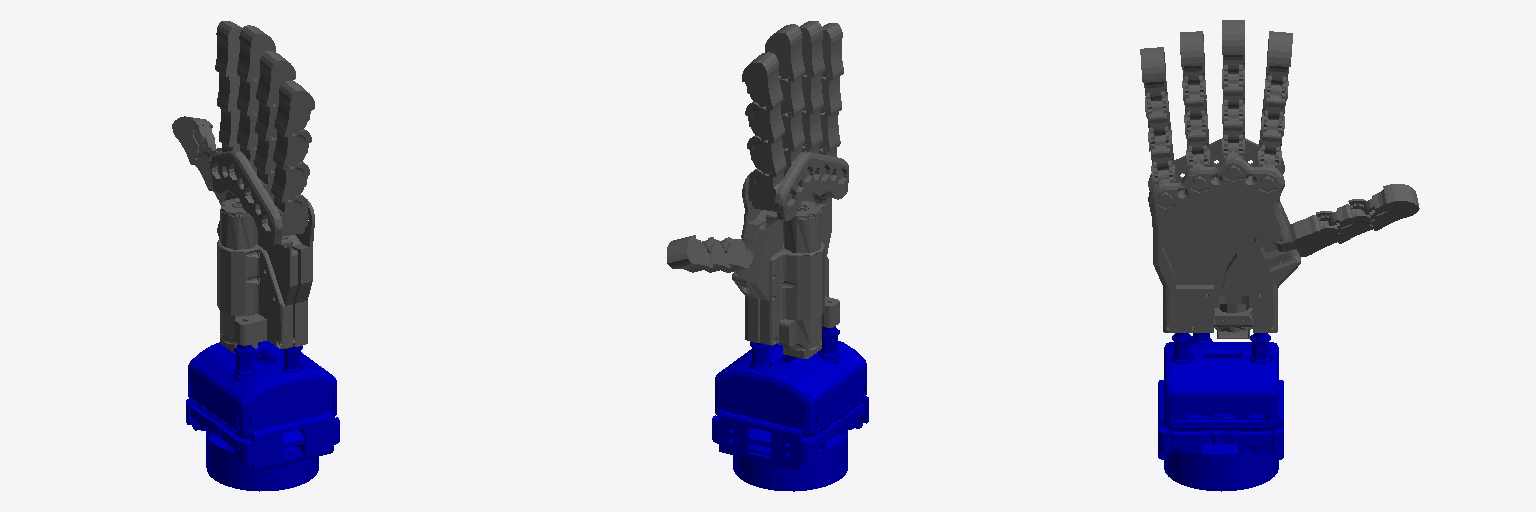
--- What the picture shows (computed from the rendered views, not written in the file) ---
The picture shows the robot from 3 angles, left to right: view 1: azimuth 30°, elevation 25°; view 2: azimuth 150°, elevation 25°; view 3: azimuth 270°, elevation 25°; orthographic projection.
Model soft_hand with 39 links and 38 joints (34 revolute, 4 fixed), rooted at right_hand_kuka_coupler_bottom, posed all joints at 0.
Visible links, largest first — view 1: right_hand_palm_link, right_hand_softhand_base, right_hand_clamp, right_hand_kuka_coupler_bottom, right_hand_little_distal_link, right_hand_ring_distal_link, right_hand_middle_distal_link, right_hand_thumb_distal_link, right_hand_index_distal_link, right_hand_little_proximal_link, right_hand_little_middle_link, right_hand_little_knuckle_link (+7 smaller); view 2: right_hand_palm_link, right_hand_softhand_base, right_hand_clamp, right_hand_kuka_coupler_bottom, right_hand_index_distal_link, right_hand_middle_distal_link, right_hand_thumb_distal_link, right_hand_index_middle_link, right_hand_index_proximal_link, right_hand_ring_distal_link, right_hand_index_knuckle_link, right_hand_little_distal_link (+8 smaller); view 3: right_hand_palm_link, right_hand_softhand_base, right_hand_kuka_coupler_bottom, right_hand_clamp, right_hand_thumb_knuckle_link, right_hand_thumb_distal_link, right_hand_index_distal_link, right_hand_little_distal_link, right_hand_thumb_proximal_link, right_hand_ring_distal_link, right_hand_middle_distal_link, right_hand_index_proximal_link (+11 smaller).
Boxes of the visible links, <box> form: right_hand_palm_link: <box>210,150,314,352</box>; right_hand_softhand_base: <box>188,340,336,438</box>; right_hand_clamp: <box>186,399,339,471</box>; right_hand_kuka_coupler_bottom: <box>206,431,318,491</box>; right_hand_little_distal_link: <box>274,80,314,136</box>; right_hand_ring_distal_link: <box>256,51,295,106</box>; right_hand_middle_distal_link: <box>237,25,275,81</box>; right_hand_thumb_distal_link: <box>172,116,215,165</box>; right_hand_index_distal_link: <box>215,21,241,76</box>; right_hand_little_proximal_link: <box>271,162,309,202</box>; right_hand_little_middle_link: <box>273,129,311,169</box>; right_hand_little_knuckle_link: <box>268,195,308,236</box>; right_hand_palm_link: <box>732,151,848,358</box>; right_hand_softhand_base: <box>715,326,866,437</box>; right_hand_clamp: <box>712,396,868,471</box>; right_hand_kuka_coupler_bottom: <box>733,429,847,491</box>; right_hand_index_distal_link: <box>742,52,783,109</box>; right_hand_middle_distal_link: <box>765,24,804,81</box>; right_hand_thumb_distal_link: <box>667,235,712,272</box>; right_hand_index_middle_link: <box>745,102,784,142</box>; right_hand_index_proximal_link: <box>747,136,786,176</box>; right_hand_ring_distal_link: <box>799,21,824,77</box>; right_hand_index_knuckle_link: <box>748,169,790,211</box>; right_hand_little_distal_link: <box>821,23,843,79</box>; right_hand_palm_link: <box>1148,138,1300,338</box>; right_hand_softhand_base: <box>1164,333,1278,430</box>; right_hand_kuka_coupler_bottom: <box>1164,414,1278,491</box>; right_hand_clamp: <box>1158,380,1283,459</box>; right_hand_thumb_knuckle_link: <box>1274,211,1342,256</box>; right_hand_thumb_distal_link: <box>1364,184,1419,230</box>; right_hand_index_distal_link: <box>1266,31,1292,85</box>; right_hand_little_distal_link: <box>1140,47,1166,100</box>; right_hand_thumb_proximal_link: <box>1328,199,1376,243</box>; right_hand_ring_distal_link: <box>1180,31,1204,84</box>; right_hand_middle_distal_link: <box>1222,20,1244,73</box>; right_hand_index_proximal_link: <box>1259,110,1284,154</box>.
Size in the robot's own frame: 0.066 by 0.1602 by 0.2805 metres.
22 mesh visuals loaded from 7 distinct referenced files (7 binary STL).

URDF robot description (soft_hand):
<?xml version="1.0" ?>
<!-- =================================================================================== -->
<!-- |    This document was autogenerated by xacro from [local-path]/catkin_softhand/src/pisa-iit-soft-hand/soft_hand_description/model/soft_hand_example.urdf.xacro | -->
<!-- |    EDITING THIS FILE BY HAND IS NOT RECOMMENDED                                 | -->
<!-- =================================================================================== -->
<robot name="soft_hand" xmlns:xacro="http://www.ros.org/wiki/xacro">
  <material name="SoftHand/LightGrey">
    <color rgba="0.7 0.7 0.7 1.0"/>
  </material>
  <material name="SoftHand/DarkGrey">
    <color rgba="0.4 0.4 0.4 1.0"/>
  </material>
  <material name="SoftHand/Black">
    <color rgba="0.0 0.0 0.0 1.0"/>
  </material>
  <material name="SoftHand/DarkGolden">
    <color rgba="0.4 0.4 0.3 1.0"/>
  </material>
  <material name="SoftHand/Blue">
    <color rgba="0.0 0.0 0.8 0.9"/>
  </material>
  <material name="SoftHand/LightBlue">
    <color rgba="0.0 0.4 1.0 0.5"/>
  </material>
  <!-- <xacro:insert_block name="gazebo_friction_properties"/> -->
  <!-- <xacro:insert_block name="gazebo_other_properties"/> -->
  <!-- NOTE: inertia values are approximated using meshlab and only using the significant elements -->
  <!-- from http://answers.ros.org/question/11350/is-there-any-way-to-calculate-inertial-property-of-a-robot-to-simulate-it-in-gazebo/s
    One general rule of thumb I use for checking my inertia tensors is: If total mass of the rigid body is m, and the dimension of the corresponding body is d, then check to see if ixx, iyy, izz are near m*(d/2)^2.

    This is by no means correct, but a sanity check to make sure the moment of inertia are the right order of magnitudes, so the model behaves somewhat physically realistically.
    -->
  <!-- PACMAN VERION ALREADY INCLUDES THE COUPLER, CLAMP AND BASE -->
  <!--joint name="box_right_hand_kuka_coupler_joint" type="fixed">
    <origin rpy="0 0 0" xyz="0.0 0.0 0.0"/>
    <parent link="box"/>
    <child link="right_hand_kuka_coupler_bottom"/>
  </joint-->
  <link name="right_hand_kuka_coupler_bottom">
    <inertial>
      <origin rpy="0 0 0" xyz="0 0 0"/>
      <mass value="1.e-6"/>
      <inertia ixx="1.e-12" ixy="0.0" ixz="0.0" iyy="1.e-12" iyz="0.0" izz="1.e-12"/>
    </inertial> <!-- in pybullet, the inertia need to be specified even for dummy links, otherwise it will put an identity inertia and a mass of 1 by default -->
    <visual>
      <origin rpy="0 0 0" xyz="0 0 0.0115"/>
      <geometry>
        <!-- mesh filename="meshes/accesories/kuka_coupler.stl"/-->
        <cylinder length="0.023" radius="0.033"/>
      </geometry>
      <material name="SoftHand/Blue"/>
    </visual>
    <collision>
      <origin rpy="0 0 0" xyz="0 0 0.031"/>
      <geometry>
        <cylinder length="0.023" radius="0.033"/>
      </geometry>
    </collision>
  </link>
  <joint name="box_right_hand_kuka_coupler_base_joint" type="fixed">
    <origin rpy="0 0 0" xyz="0 0 0.023"/>
    <parent link="right_hand_kuka_coupler_bottom"/>
    <child link="right_hand_kuka_coupler"/>
  </joint>
  <link name="right_hand_kuka_coupler">
    <inertial>
      <origin rpy="0 0 0" xyz="0 0 0"/>
      <mass value="0"/>
      <inertia ixx="0.0" ixy="0.0" ixz="0.0" iyy="0.0" iyz="0.0" izz="0.0"/>
    </inertial> <!-- in pybullet, the inertia need to be specified even for dummy links, otherwise it will put an identity inertia and a mass of 1 by default -->
  </link>
  <joint name="right_hand_kuka_coupler_right_hand_clamp_joint" type="fixed">
    <origin rpy="0 0 0" xyz="0 0 0.01"/>
    <parent link="right_hand_kuka_coupler"/>
    <child link="right_hand_clamp"/>
  </joint>
  <link name="right_hand_clamp">
    <inertial>
      <origin rpy="0 0 0" xyz="0 0 0"/>
      <mass value="0"/>
      <inertia ixx="0.0" ixy="0.0" ixz="0.0" iyy="0.0" iyz="0.0" izz="0.0"/>
    </inertial> <!-- in pybullet, the inertia need to be specified even for dummy links, otherwise it will put an identity inertia and a mass of 1 by default -->
    <visual>
      <origin rpy="0 0 0" xyz="0 0 0"/>
      <geometry>
        <mesh filename="meshes/accesories/clamp.stl"/>
      </geometry>
      <material name="SoftHand/Blue"/>
    </visual>
    <collision>
      <origin rpy="0 0 0" xyz="0 0 0"/>
      <geometry>
        <box size="0.066 0.0725 0.0256"/>
      </geometry>
    </collision>
  </link>
  <joint name="right_hand_clamp_right_hand_softhand_base_joint" type="fixed">
    <origin rpy="0 0 0" xyz="0 0 0.004"/>
    <parent link="right_hand_clamp"/>
    <child link="right_hand_softhand_base"/>
  </joint>
  <link name="right_hand_softhand_base">
    <inertial>
      <origin rpy="0 0 0" xyz="0 0 0"/>
      <mass value="0"/>
      <inertia ixx="0.0" ixy="0.0" ixz="0.0" iyy="0.0" iyz="0.0" izz="0.0"/>
    </inertial> <!-- in pybullet, the inertia need to be specified even for dummy links, otherwise it will put an identity inertia and a mass of 1 by default -->
    <visual>
      <origin rpy="0 0 0" xyz="0 0 0"/>
      <geometry>
        <mesh filename="meshes/accesories/softhand_base_right.stl"/>
      </geometry>
      <material name="SoftHand/Blue"/>
    </visual>
    <collision>
      <origin rpy="0 0 0" xyz="0 0 0.031"/>
      <geometry>
        <box size="0.066 0.066 0.062"/>
      </geometry>
    </collision>
  </link>
  <!-- PALM -->
  <joint name="right_hand_palm_joint" type="fixed">
    <origin rpy="0 0 0" xyz="0.002 0.00695 0.0535"/>
    <parent link="right_hand_softhand_base"/>
    <child link="right_hand_palm_link"/>
  </joint>
  <link name="right_hand_palm_link">
    <inertial>
      <origin xyz="-0.004568758 -0.006808116 0.027653328"/>
      <mass value="2.28"/>
      <inertia ixx="1.6302" ixy="0.0228" ixz="0.0228" iyy="0.9462" iyz="0.0456" izz="1.1058"/>
    </inertial>
    <visual>
      <geometry>
        <mesh filename="meshes/palm_right.stl" scale=" .001 .001 .001"/>
      </geometry>
      <material name="SoftHand/DarkGrey"/>
    </visual>
    <collision>
      <geometry>
        <mesh filename="meshes/palm_right_collision.stl" scale=" .001 .001 .001"/>
      </geometry>
    </collision>
  </link>
  <!-- MOTOR JOINT -->
  <joint name="right_hand_synergy_joint" type="revolute">
    <parent link="right_hand_palm_link"/>
    <child link="right_hand_invisible_wire_link"/>
    <axis xyz="0 0 1"/>
    <limit effort="100" lower="0.0" upper="1.0" velocity="100000"/>
    <dynamics damping="0.0" friction="0.0"/>
  </joint>
  <link name="right_hand_invisible_wire_link">
    <inertial>
      <origin xyz="0 0 0"/>
      <mass value="0.1"/>
      <inertia ixx="0.001" ixy="0.0" ixz="0.0" iyy="0.001" iyz="0.0" izz="0.001"/>
    </inertial>
  </link>
  <!-- KNUCKLE -->
  <joint name="right_hand_thumb_abd_joint" type="revolute">
    <origin rpy="0.0 -0.38397275793662144 1.5707963267948966" xyz="0.00566972 0.0296160 0.0553140"/>
    <parent link="right_hand_palm_link"/>
    <child link="right_hand_thumb_knuckle_link"/>
    <axis xyz="0 0 -1"/>
    <limit effort="100" lower="0.0" upper="1.57079632679" velocity="100"/>
    <dynamics damping="0.0" friction="0.0"/>
  </joint>
  <link name="right_hand_thumb_knuckle_link">
    <inertial>
      <origin xyz="0.013608098 -0.000532174 -0.000216691"/>
      <mass value="0.09"/>
      <inertia ixx="0.00315" ixy="0.00027" ixz="-0.00054" iyy="0.009" iyz="0.00018" izz="0.009"/>
    </inertial>
    <visual>
      <geometry>
        <mesh filename="meshes/thumb_knuckle_right.stl" scale=" .001 .001 .001"/>
      </geometry>
      <material name="SoftHand/DarkGrey"/>
    </visual>
    <collision>
      <geometry>
        <mesh filename="meshes/thumb_knuckle_right_collision.stl" scale=" .001 .001 .001"/>
      </geometry>
    </collision>
  </link>
  <!-- PROXIMAL PHALANGE -->
  <joint name="right_hand_thumb_inner_joint" type="revolute">
    <!-- <origin xyz="0.022500000 -0.003300000 0.0" rpy="0.42662757656587236 0.0 0.18131960430075023" /> -->
    <origin rpy="0.42662757656587236 0.0 0.0" xyz="0.022500000 -0.003300000 0.0"/>
    <parent link="right_hand_thumb_knuckle_link"/>
    <child link="right_hand_thumb_fake_link1"/>
    <axis xyz="0 -1 0"/>
    <limit effort="100" lower="0.0" upper="0.785398163397" velocity="100"/>
    <dynamics damping="0.0" friction="0.0"/>
  </joint>
  <link name="right_hand_thumb_fake_link1">
    <inertial>
      <origin xyz="0 0 0"/>
      <mass value="0.1"/>
      <inertia ixx="0.001" ixy="0.0" ixz="0.0" iyy="0.001" iyz="0.0" izz="0.001"/>
    </inertial>
  </link>
  <joint name="right_hand_thumb_inner_joint_mimic" type="revolute">
    <origin rpy="0 0 0" xyz="0.013 0 0"/>
    <parent link="right_hand_thumb_fake_link1"/>
    <child link="right_hand_thumb_proximal_link"/>
    <axis xyz="0 -1 0"/>
    <limit effort="100" lower="0.0" upper="0.785398163397" velocity="100"/>
    <dynamics damping="0.0" friction="0.0"/>
  </joint>
  <link name="right_hand_thumb_proximal_link">
    <inertial>
      <origin xyz="0.005074337 -4.524e-06 -0.000262953"/>
      <mass value="0.05"/>
      <inertia ixx="0.00175" ixy="0.0" ixz="0.0001" iyy="0.00275" iyz="0.0" izz="0.00275"/>
    </inertial>
    <visual>
      <geometry>
        <mesh filename="meshes/phalanx.stl" scale=" .001 .001 .001"/>
      </geometry>
      <material name="SoftHand/DarkGrey"/>
    </visual>
    <collision>
      <geometry>
        <mesh filename="meshes/phalanx_collision.stl" scale=" .001 .001 .001"/>
      </geometry>
    </collision>
  </link>
  <!-- DISTAL PHALANGE -->
  <joint name="right_hand_thumb_outer_joint" type="revolute">
    <origin rpy="0 0 0" xyz="0.009 0 0.0"/>
    <parent link="right_hand_thumb_proximal_link"/>
    <child link="right_hand_thumb_fake_link3"/>
    <axis xyz="0 -1 0"/>
    <limit effort="100" lower="0.0" upper="0.785398163397" velocity="100"/>
    <dynamics damping="0.0" friction="0.0"/>
  </joint>
  <link name="right_hand_thumb_fake_link3">
    <inertial>
      <origin xyz="0 0 0"/>
      <mass value="0.1"/>
      <inertia ixx="0.001" ixy="0.0" ixz="0.0" iyy="0.001" iyz="0.0" izz="0.001"/>
    </inertial>
  </link>
  <joint name="right_hand_thumb_outer_joint_mimic" type="revolute">
    <origin rpy="0 0 0" xyz="0.013 0 0"/>
    <parent link="right_hand_thumb_fake_link3"/>
    <child link="right_hand_thumb_distal_link"/>
    <axis xyz="0 -1 0"/>
    <limit effort="100" lower="0.0" upper="0.785398163397" velocity="100"/>
    <dynamics damping="0.0" friction="0.0"/>
  </joint>
  <link name="right_hand_thumb_distal_link">
    <inertial>
      <origin xyz="0.009849094 5.6e-07 0.000820286"/>
      <mass value="0.1"/>
      <inertia ixx="0.0035" ixy="0.0" ixz="0.0002" iyy="0.008" iyz="0.0" izz="0.0076"/>
    </inertial>
    <visual>
      <geometry>
        <mesh filename="meshes/fingertip.stl" scale=" .001 .001 .001"/>
      </geometry>
      <material name="SoftHand/DarkGrey"/>
    </visual>
    <collision>
      <geometry>
        <mesh filename="meshes/fingertip_collision.stl" scale=" .001 .001 .001"/>
      </geometry>
    </collision>
  </link>
  <!-- KNUCKLE -->
  <joint name="right_hand_index_abd_joint" type="revolute">
    <origin rpy="1.5707963267948966 -1.4835299330931884 1.5707963267948966" xyz="-0.0033 0.0195 0.0936994"/>
    <parent link="right_hand_palm_link"/>
    <child link="right_hand_index_knuckle_link"/>
    <axis xyz="0 0 1"/>
    <limit effort="100" lower="-0.523598775598" upper="0.523598775598" velocity="100"/>
    <dynamics damping="0.0" friction="0.0"/>
  </joint>
  <link name="right_hand_index_knuckle_link">
    <inertial>
      <origin xyz="0.001285644 -9.58e-07 0.000425011"/>
      <mass value="0.09"/>
      <inertia ixx="0.00405" ixy="0.0" ixz="0.00045" iyy="0.0081" iyz="0.0" izz="0.0063"/>
    </inertial>
    <visual>
      <geometry>
        <mesh filename="meshes/knuckle.stl" scale=" .001 .001 .001"/>
      </geometry>
      <material name="SoftHand/DarkGrey"/>
    </visual>
    <collision>
      <geometry>
        <mesh filename="meshes/knuckle_collision.stl" scale=" .001 .001 .001"/>
      </geometry>
    </collision>
  </link>
  <!-- PROXIMAL PHALANGE -->
  <joint name="right_hand_index_inner_joint" type="revolute">
    <origin rpy="0 0 0" xyz="0.009 0 0"/>
    <parent link="right_hand_index_knuckle_link"/>
    <child link="right_hand_index_fake_link1"/>
    <axis xyz="0 -1 0"/>
    <limit effort="100" lower="0.0" upper="0.785398163397" velocity="100"/>
    <dynamics damping="0.0" friction="0.0"/>
  </joint>
  <link name="right_hand_index_fake_link1">
    <inertial>
      <origin xyz="0 0 0"/>
      <mass value="0.1"/>
      <inertia ixx="0.001" ixy="0.0" ixz="0.0" iyy="0.001" iyz="0.0" izz="0.001"/>
    </inertial>
  </link>
  <joint name="right_hand_index_inner_joint_mimic" type="revolute">
    <origin rpy="0 0 0" xyz="0.013 0 0"/>
    <parent link="right_hand_index_fake_link1"/>
    <child link="right_hand_index_proximal_link"/>
    <axis xyz="0 -1 0"/>
    <limit effort="100" lower="0.0" upper="0.785398163397" velocity="100"/>
    <dynamics damping="0.0" friction="0.0"/>
  </joint>
  <link name="right_hand_index_proximal_link">
    <inertial>
      <origin xyz="0.005074337 -4.524e-06 -0.000262953"/>
      <mass value="0.05"/>
      <inertia ixx="0.00175" ixy="0.0" ixz="0.0001" iyy="0.00275" iyz="0.0" izz="0.00275"/>
    </inertial>
    <visual>
      <geometry>
        <mesh filename="meshes/phalanx.stl" scale=" .001 .001 .001"/>
      </geometry>
      <material name="SoftHand/DarkGrey"/>
    </visual>
    <collision>
      <geometry>
        <mesh filename="meshes/phalanx_collision.stl" scale=" .001 .001 .001"/>
      </geometry>
    </collision>
  </link>
  <!-- MIDDLE PHALANGE -->
  <joint name="right_hand_index_middle_joint" type="revolute">
    <origin rpy="0 0 0" xyz="0.009 0 0"/>
    <parent link="right_hand_index_proximal_link"/>
    <child link="right_hand_index_fake_link2"/>
    <axis xyz="0 -1 0"/>
    <limit effort="100" lower="0.0" upper="0.785398163397" velocity="100"/>
    <dynamics damping="0.0" friction="0.0"/>
  </joint>
  <link name="right_hand_index_fake_link2">
    <inertial>
      <origin xyz="0 0 0"/>
      <mass value="0.1"/>
      <inertia ixx="0.001" ixy="0.0" ixz="0.0" iyy="0.001" iyz="0.0" izz="0.001"/>
    </inertial>
  </link>
  <joint name="right_hand_index_middle_joint_mimic" type="revolute">
    <origin rpy="0 0 0" xyz="0.013 0 0"/>
    <parent link="right_hand_index_fake_link2"/>
    <child link="right_hand_index_middle_link"/>
    <axis xyz="0 -1 0"/>
    <limit effort="100" lower="0.0" upper="0.785398163397" velocity="100"/>
    <dynamics damping="0.0" friction="0.0"/>
  </joint>
  <link name="right_hand_index_middle_link">
    <inertial>
      <origin xyz="0.005074337 -4.524e-06 -0.000262953"/>
      <mass value="0.05"/>
      <inertia ixx="0.00175" ixy="0.0" ixz="0.0001" iyy="0.00275" iyz="0.0" izz="0.00275"/>
    </inertial>
    <visual>
      <geometry>
        <mesh filename="meshes/phalanx.stl" scale=" .001 .001 .001"/>
      </geometry>
      <material name="SoftHand/DarkGrey"/>
    </visual>
    <collision>
      <geometry>
        <mesh filename="meshes/phalanx_collision.stl" scale=" .001 .001 .001"/>
      </geometry>
    </collision>
  </link>
  <!-- DISTAL PHALANGE -->
  <joint name="right_hand_index_outer_joint" type="revolute">
    <origin rpy="0 0 0" xyz="0.009 0 0"/>
    <parent link="right_hand_index_middle_link"/>
    <child link="right_hand_index_fake_link3"/>
    <axis xyz="0 -1 0"/>
    <limit effort="100" lower="0.0" upper="0.785398163397" velocity="100"/>
    <dynamics damping="0.0" friction="0.0"/>
  </joint>
  <link name="right_hand_index_fake_link3">
    <inertial>
      <origin xyz="0 0 0"/>
      <mass value="0.1"/>
      <inertia ixx="0.001" ixy="0.0" ixz="0.0" iyy="0.001" iyz="0.0" izz="0.001"/>
    </inertial>
  </link>
  <joint name="right_hand_index_outer_joint_mimic" type="revolute">
    <origin rpy="0 0 0" xyz="0.013 0 0"/>
    <parent link="right_hand_index_fake_link3"/>
    <child link="right_hand_index_distal_link"/>
    <axis xyz="0 -1 0"/>
    <limit effort="100" lower="0.0" upper="0.785398163397" velocity="100"/>
    <dynamics damping="0.0" friction="0.0"/>
  </joint>
  <link name="right_hand_index_distal_link">
    <inertial>
      <origin xyz="0.009849094 5.6e-07 0.000820286"/>
      <mass value="0.1"/>
      <inertia ixx="0.0035" ixy="0.0" ixz="0.0002" iyy="0.008" iyz="0.0" izz="0.0076"/>
    </inertial>
    <visual>
      <geometry>
        <mesh filename="meshes/fingertip.stl" scale=" .001 .001 .001"/>
      </geometry>
      <material name="SoftHand/DarkGrey"/>
    </visual>
    <collision>
      <geometry>
        <mesh filename="meshes/fingertip_collision.stl" scale=" .001 .001 .001"/>
      </geometry>
    </collision>
  </link>
  <!-- KNUCKLE -->
  <joint name="right_hand_middle_abd_joint" type="revolute">
    <origin rpy="3.141592 -1.5707963267948966 0.0" xyz="-0.003300000 0.0 0.100699"/>
    <parent link="right_hand_palm_link"/>
    <child link="right_hand_middle_knuckle_link"/>
    <axis xyz="0 0 1"/>
    <limit effort="100" lower="-0.523598775598" upper="0.523598775598" velocity="100"/>
    <dynamics damping="0.0" friction="0.0"/>
  </joint>
  <link name="right_hand_middle_knuckle_link">
    <inertial>
      <origin xyz="0.001285644 -9.58e-07 0.000425011"/>
      <mass value="0.09"/>
      <inertia ixx="0.00405" ixy="0.0" ixz="0.00045" iyy="0.0081" iyz="0.0" izz="0.0063"/>
    </inertial>
    <visual>
      <geometry>
        <mesh filename="meshes/knuckle.stl" scale=" .001 .001 .001"/>
      </geometry>
      <material name="SoftHand/DarkGrey"/>
    </visual>
    <collision>
      <geometry>
        <mesh filename="meshes/knuckle_collision.stl" scale=" .001 .001 .001"/>
      </geometry>
    </collision>
  </link>
  <!-- PROXIMAL PHALANGE -->
  <joint name="right_hand_middle_inner_joint" type="revolute">
    <origin rpy="0 0 0" xyz="0.009 0 0"/>
    <parent link="right_hand_middle_knuckle_link"/>
    <child link="right_hand_middle_fake_link1"/>
    <axis xyz="0 -1 0"/>
    <limit effort="100" lower="0.0" upper="0.785398163397" velocity="100"/>
    <dynamics damping="0.0" friction="0.0"/>
  </joint>
  <link name="right_hand_middle_fake_link1">
    <inertial>
      <origin xyz="0 0 0"/>
      <mass value="0.1"/>
      <inertia ixx="0.001" ixy="0.0" ixz="0.0" iyy="0.001" iyz="0.0" izz="0.001"/>
    </inertial>
  </link>
  <joint name="right_hand_middle_inner_joint_mimic" type="revolute">
    <origin rpy="0 0 0" xyz="0.013 0 0"/>
    <parent link="right_hand_middle_fake_link1"/>
    <child link="right_hand_middle_proximal_link"/>
    <axis xyz="0 -1 0"/>
    <limit effort="100" lower="0.0" upper="0.785398163397" velocity="100"/>
    <dynamics damping="0.0" friction="0.0"/>
  </joint>
  <link name="right_hand_middle_proximal_link">
    <inertial>
      <origin xyz="0.005074337 -4.524e-06 -0.000262953"/>
      <mass value="0.05"/>
      <inertia ixx="0.00175" ixy="0.0" ixz="0.0001" iyy="0.00275" iyz="0.0" izz="0.00275"/>
    </inertial>
    <visual>
      <geometry>
        <mesh filename="meshes/phalanx.stl" scale=" .001 .001 .001"/>
      </geometry>
      <material name="SoftHand/DarkGrey"/>
    </visual>
    <collision>
      <geometry>
        <mesh filename="meshes/phalanx_collision.stl" scale=" .001 .001 .001"/>
      </geometry>
    </collision>
  </link>
  <!-- MIDDLE PHALANGE -->
  <joint name="right_hand_middle_middle_joint" type="revolute">
    <origin rpy="0 0 0" xyz="0.009 0 0"/>
    <parent link="right_hand_middle_proximal_link"/>
    <child link="right_hand_middle_fake_link2"/>
    <axis xyz="0 -1 0"/>
    <limit effort="100" lower="0.0" upper="0.785398163397" velocity="100"/>
    <dynamics damping="0.0" friction="0.0"/>
  </joint>
  <link name="right_hand_middle_fake_link2">
    <inertial>
      <origin xyz="0 0 0"/>
      <mass value="0.1"/>
      <inertia ixx="0.001" ixy="0.0" ixz="0.0" iyy="0.001" iyz="0.0" izz="0.001"/>
    </inertial>
  </link>
  <joint name="right_hand_middle_middle_joint_mimic" type="revolute">
    <origin rpy="0 0 0" xyz="0.013 0 0"/>
    <parent link="right_hand_middle_fake_link2"/>
    <child link="right_hand_middle_middle_link"/>
    <axis xyz="0 -1 0"/>
    <limit effort="100" lower="0.0" upper="0.785398163397" velocity="100"/>
    <dynamics damping="0.0" friction="0.0"/>
  </joint>
  <link name="right_hand_middle_middle_link">
    <inertial>
      <origin xyz="0.005074337 -4.524e-06 -0.000262953"/>
      <mass value="0.05"/>
      <inertia ixx="0.00175" ixy="0.0" ixz="0.0001" iyy="0.00275" iyz="0.0" izz="0.00275"/>
    </inertial>
    <visual>
      <geometry>
        <mesh filename="meshes/phalanx.stl" scale=" .001 .001 .001"/>
      </geometry>
      <material name="SoftHand/DarkGrey"/>
    </visual>
    <collision>
      <geometry>
        <mesh filename="meshes/phalanx_collision.stl" scale=" .001 .001 .001"/>
      </geometry>
    </collision>
  </link>
  <!-- DISTAL PHALANGE -->
  <joint name="right_hand_middle_outer_joint" type="revolute">
    <origin rpy="0 0 0" xyz="0.009 0 0"/>
    <parent link="right_hand_middle_middle_link"/>
    <child link="right_hand_middle_fake_link3"/>
    <axis xyz="0 -1 0"/>
    <limit effort="100" lower="0.0" upper="0.785398163397" velocity="100"/>
    <dynamics damping="0.0" friction="0.0"/>
  </joint>
  <link name="right_hand_middle_fake_link3">
    <inertial>
      <origin xyz="0 0 0"/>
      <mass value="0.1"/>
      <inertia ixx="0.001" ixy="0.0" ixz="0.0" iyy="0.001" iyz="0.0" izz="0.001"/>
    </inertial>
  </link>
  <joint name="right_hand_middle_outer_joint_mimic" type="revolute">
    <origin rpy="0 0 0" xyz="0.013 0 0"/>
    <parent link="right_hand_middle_fake_link3"/>
    <child link="right_hand_middle_distal_link"/>
    <axis xyz="0 -1 0"/>
    <limit effort="100" lower="0.0" upper="0.785398163397" velocity="100"/>
    <dynamics damping="0.0" friction="0.0"/>
  </joint>
  <link name="right_hand_middle_distal_link">
    <inertial>
      <origin xyz="0.009849094 5.6e-07 0.000820286"/>
      <mass value="0.1"/>
      <inertia ixx="0.0035" ixy="0.0" ixz="0.0002" iyy="0.008" iyz="0.0" izz="0.0076"/>
    </inertial>
    <visual>
      <geometry>
        <mesh filename="meshes/fingertip.stl" scale=" .001 .001 .001"/>
      </geometry>
      <material name="SoftHand/DarkGrey"/>
    </visual>
    <collision>
      <geometry>
        <mesh filename="meshes/fingertip_collision.stl" scale=" .001 .001 .001"/>
      </geometry>
    </collision>
  </link>
  <!-- KNUCKLE -->
  <joint name="right_hand_ring_abd_joint" type="revolute">
    <origin rpy="-1.5707963267948966 -1.5184364298870514 -1.5707963267948966 " xyz="-0.0033 -0.0195 0.0936994"/>
    <parent link="right_hand_palm_link"/>
    <child link="right_hand_ring_knuckle_link"/>
    <axis xyz="0 0 1"/>
    <limit effort="100" lower="-0.523598775598" upper="0.523598775598" velocity="100"/>
    <dynamics damping="0.0" friction="0.0"/>
  </joint>
  <link name="right_hand_ring_knuckle_link">
    <inertial>
      <origin xyz="0.001285644 -9.58e-07 0.000425011"/>
      <mass value="0.09"/>
      <inertia ixx="0.00405" ixy="0.0" ixz="0.00045" iyy="0.0081" iyz="0.0" izz="0.0063"/>
    </inertial>
    <visual>
      <geometry>
        <mesh filename="meshes/knuckle.stl" scale=" .001 .001 .001"/>
      </geometry>
      <material name="SoftHand/DarkGrey"/>
    </visual>
    <collision>
      <geometry>
        <mesh filename="meshes/knuckle_collision.stl" scale=" .001 .001 .001"/>
      </geometry>
    </collision>
  </link>
  <!-- PROXIMAL PHALANGE -->
  <joint name="right_hand_ring_inner_joint" type="revolute">
    <origin rpy="0 0 0" xyz="0.009 0 0"/>
    <parent link="right_hand_ring_knuckle_link"/>
    <child link="right_hand_ring_fake_link1"/>
    <axis xyz="0 -1 0"/>
    <limit effort="100" lower="0.0" upper="0.785398163397" velocity="100"/>
    <dynamics damping="0.0" friction="0.0"/>
  </joint>
  <link name="right_hand_ring_fake_link1">
    <inertial>
      <origin xyz="0 0 0"/>
      <mass value="0.1"/>
      <inertia ixx="0.001" ixy="0.0" ixz="0.0" iyy="0.001" iyz="0.0" izz="0.001"/>
    </inertial>
  </link>
  <joint name="right_hand_ring_inner_joint_mimic" type="revolute">
    <origin rpy="0 0 0" xyz="0.013 0 0"/>
    <parent link="right_hand_ring_fake_link1"/>
    <child link="right_hand_ring_proximal_link"/>
    <axis xyz="0 -1 0"/>
    <limit effort="100" lower="0.0" upper="0.785398163397" velocity="100"/>
    <dynamics damping="0.0" friction="0.0"/>
  </joint>
  <link name="right_hand_ring_proximal_link">
    <inertial>
      <origin xyz="0.005074337 -4.524e-06 -0.000262953"/>
      <mass value="0.05"/>
      <inertia ixx="0.00175" ixy="0.0" ixz="0.0001" iyy="0.00275" iyz="0.0" izz="0.00275"/>
    </inertial>
    <visual>
      <geometry>
        <mesh filename="meshes/phalanx.stl" scale=" .001 .001 .001"/>
      </geometry>
      <material name="SoftHand/DarkGrey"/>
    </visual>
    <collision>
      <geometry>
        <mesh filename="meshes/phalanx_collision.stl" scale=" .001 .001 .001"/>
      </geometry>
    </collision>
  </link>
  <!-- MIDDLE PHALANGE -->
  <joint name="right_hand_ring_middle_joint" type="revolute">
    <origin rpy="0 0 0" xyz="0.009 0 0"/>
    <parent link="right_hand_ring_proximal_link"/>
    <child link="right_hand_ring_fake_link2"/>
    <axis xyz="0 -1 0"/>
    <limit effort="100" lower="0.0" upper="0.785398163397" velocity="100"/>
    <dynamics damping="0.0" friction="0.0"/>
  </joint>
  <link name="right_hand_ring_fake_link2">
    <inertial>
      <origin xyz="0 0 0"/>
      <mass value="0.1"/>
      <inertia ixx="0.001" ixy="0.0" ixz="0.0" iyy="0.001" iyz="0.0" izz="0.001"/>
    </inertial>
  </link>
  <joint name="right_hand_ring_middle_joint_mimic" type="revolute">
    <origin rpy="0 0 0" xyz="0.013 0 0"/>
    <parent link="right_hand_ring_fake_link2"/>
    <child link="right_hand_ring_middle_link"/>
    <axis xyz="0 -1 0"/>
    <limit effort="100" lower="0.0" upper="0.785398163397" velocity="100"/>
    <dynamics damping="0.0" friction="0.0"/>
  </joint>
  <link name="right_hand_ring_middle_link">
    <inertial>
      <origin xyz="0.005074337 -4.524e-06 -0.000262953"/>
      <mass value="0.05"/>
      <inertia ixx="0.00175" ixy="0.0" ixz="0.0001" iyy="0.00275" iyz="0.0" izz="0.00275"/>
    </inertial>
    <visual>
      <geometry>
        <mesh filename="meshes/phalanx.stl" scale=" .001 .001 .001"/>
      </geometry>
      <material name="SoftHand/DarkGrey"/>
    </visual>
    <collision>
      <geometry>
        <mesh filename="meshes/phalanx_collision.stl" scale=" .001 .001 .001"/>
      </geometry>
    </collision>
  </link>
  <!-- DISTAL PHALANGE -->
  <joint name="right_hand_ring_outer_joint" type="revolute">
    <origin rpy="0 0 0" xyz="0.009 0 0"/>
    <parent link="right_hand_ring_middle_link"/>
    <child link="right_hand_ring_fake_link3"/>
    <axis xyz="0 -1 0"/>
    <limit effort="100" lower="0.0" upper="0.785398163397" velocity="100"/>
    <dynamics damping="0.0" friction="0.0"/>
  </joint>
  <link name="right_hand_ring_fake_link3">
    <inertial>
      <origin xyz="0 0 0"/>
      <mass value="0.1"/>
      <inertia ixx="0.001" ixy="0.0" ixz="0.0" iyy="0.001" iyz="0.0" izz="0.001"/>
    </inertial>
  </link>
  <joint name="right_hand_ring_outer_joint_mimic" type="revolute">
    <origin rpy="0 0 0" xyz="0.013 0 0"/>
    <parent link="right_hand_ring_fake_link3"/>
    <child link="right_hand_ring_distal_link"/>
    <axis xyz="0 -1 0"/>
    <limit effort="100" lower="0.0" upper="0.785398163397" velocity="100"/>
    <dynamics damping="0.0" friction="0.0"/>
  </joint>
  <link name="right_hand_ring_distal_link">
    <inertial>
      <origin xyz="0.009849094 5.6e-07 0.000820286"/>
      <mass value="0.1"/>
      <inertia ixx="0.0035" ixy="0.0" ixz="0.0002" iyy="0.008" iyz="0.0" izz="0.0076"/>
    </inertial>
    <visual>
      <geometry>
        <mesh filename="meshes/fingertip.stl" scale=" .001 .001 .001"/>
      </geometry>
      <material name="SoftHand/DarkGrey"/>
    </visual>
    <collision>
      <geometry>
        <mesh filename="meshes/fingertip_collision.stl" scale=" .001 .001 .001"/>
      </geometry>
    </collision>
  </link>
  <!-- KNUCKLE -->
  <joint name="right_hand_little_abd_joint" type="revolute">
    <origin rpy="-1.5707963267948966 -1.4835299330931884 -1.5707963267948966" xyz="-0.0033 -0.039 0.0836994"/>
    <parent link="right_hand_palm_link"/>
    <child link="right_hand_little_knuckle_link"/>
    <axis xyz="0 0 1"/>
    <limit effort="100" lower="-0.523598775598" upper="0.523598775598" velocity="100"/>
    <dynamics damping="0.0" friction="0.0"/>
  </joint>
  <link name="right_hand_little_knuckle_link">
    <inertial>
      <origin xyz="0.001285644 -9.58e-07 0.000425011"/>
      <mass value="0.09"/>
      <inertia ixx="0.00405" ixy="0.0" ixz="0.00045" iyy="0.0081" iyz="0.0" izz="0.0063"/>
    </inertial>
    <visual>
      <geometry>
        <mesh filename="meshes/knuckle.stl" scale=" .001 .001 .001"/>
      </geometry>
      <material name="SoftHand/DarkGrey"/>
    </visual>
    <collision>
      <geometry>
        <mesh filename="meshes/knuckle_collision.stl" scale=" .001 .001 .001"/>
      </geometry>
    </collision>
  </link>
  <!-- PROXIMAL PHALANGE -->
  <joint name="right_hand_little_inner_joint" type="revolute">
    <origin rpy="0 0 0" xyz="0.009 0 0"/>
    <parent link="right_hand_little_knuckle_link"/>
    <child link="right_hand_little_fake_link1"/>
    <axis xyz="0 -1 0"/>
    <limit effort="100" lower="0.0" upper="0.785398163397" velocity="100"/>
    <dynamics damping="0.0" friction="0.0"/>
  </joint>
  <link name="right_hand_little_fake_link1">
    <inertial>
      <origin xyz="0 0 0"/>
      <mass value="0.1"/>
      <inertia ixx="0.001" ixy="0.0" ixz="0.0" iyy="0.001" iyz="0.0" izz="0.001"/>
    </inertial>
  </link>
  <joint name="right_hand_little_inner_joint_mimic" type="revolute">
    <origin rpy="0 0 0" xyz="0.013 0 0"/>
    <parent link="right_hand_little_fake_link1"/>
    <child link="right_hand_little_proximal_link"/>
    <axis xyz="0 -1 0"/>
    <limit effort="100" lower="0.0" upper="0.785398163397" velocity="100"/>
    <dynamics damping="0.0" friction="0.0"/>
  </joint>
  <link name="right_hand_little_proximal_link">
    <inertial>
      <origin xyz="0.005074337 -4.524e-06 -0.000262953"/>
      <mass value="0.05"/>
      <inertia ixx="0.00175" ixy="0.0" ixz="0.0001" iyy="0.00275" iyz="0.0" izz="0.00275"/>
    </inertial>
    <visual>
      <geometry>
        <mesh filename="meshes/phalanx.stl" scale=" .001 .001 .001"/>
      </geometry>
      <material name="SoftHand/DarkGrey"/>
    </visual>
    <collision>
      <geometry>
        <mesh filename="meshes/phalanx_collision.stl" scale=" .001 .001 .001"/>
      </geometry>
    </collision>
  </link>
  <!-- MIDDLE PHALANGE -->
  <joint name="right_hand_little_middle_joint" type="revolute">
    <origin rpy="0 0 0" xyz="0.009 0 0"/>
    <parent link="right_hand_little_proximal_link"/>
    <child link="right_hand_little_fake_link2"/>
    <axis xyz="0 -1 0"/>
    <limit effort="100" lower="0.0" upper="0.785398163397" velocity="100"/>
    <dynamics damping="0.0" friction="0.0"/>
  </joint>
  <link name="right_hand_little_fake_link2">
    <inertial>
      <origin xyz="0 0 0"/>
      <mass value="0.1"/>
      <inertia ixx="0.001" ixy="0.0" ixz="0.0" iyy="0.001" iyz="0.0" izz="0.001"/>
    </inertial>
  </link>
  <joint name="right_hand_little_middle_joint_mimic" type="revolute">
    <origin rpy="0 0 0" xyz="0.013 0 0"/>
    <parent link="right_hand_little_fake_link2"/>
    <child link="right_hand_little_middle_link"/>
    <axis xyz="0 -1 0"/>
    <limit effort="100" lower="0.0" upper="0.785398163397" velocity="100"/>
    <dynamics damping="0.0" friction="0.0"/>
  </joint>
  <link name="right_hand_little_middle_link">
    <inertial>
      <origin xyz="0.005074337 -4.524e-06 -0.000262953"/>
      <mass value="0.05"/>
      <inertia ixx="0.00175" ixy="0.0" ixz="0.0001" iyy="0.00275" iyz="0.0" izz="0.00275"/>
    </inertial>
    <visual>
      <geometry>
        <mesh filename="meshes/phalanx.stl" scale=" .001 .001 .001"/>
      </geometry>
      <material name="SoftHand/DarkGrey"/>
    </visual>
    <collision>
      <geometry>
        <mesh filename="meshes/phalanx_collision.stl" scale=" .001 .001 .001"/>
      </geometry>
    </collision>
  </link>
  <!-- DISTAL PHALANGE -->
  <joint name="right_hand_little_outer_joint" type="revolute">
    <origin rpy="0 0 0" xyz="0.009 0 0"/>
    <parent link="right_hand_little_middle_link"/>
    <child link="right_hand_little_fake_link3"/>
    <axis xyz="0 -1 0"/>
    <limit effort="100" lower="0.0" upper="0.785398163397" velocity="100"/>
    <dynamics damping="0.0" friction="0.0"/>
  </joint>
  <link name="right_hand_little_fake_link3">
    <inertial>
      <origin xyz="0 0 0"/>
      <mass value="0.1"/>
      <inertia ixx="0.001" ixy="0.0" ixz="0.0" iyy="0.001" iyz="0.0" izz="0.001"/>
    </inertial>
  </link>
  <joint name="right_hand_little_outer_joint_mimic" type="revolute">
    <origin rpy="0 0 0" xyz="0.013 0 0"/>
    <parent link="right_hand_little_fake_link3"/>
    <child link="right_hand_little_distal_link"/>
    <axis xyz="0 -1 0"/>
    <limit effort="100" lower="0.0" upper="0.785398163397" velocity="100"/>
    <dynamics damping="0.0" friction="0.0"/>
  </joint>
  <link name="right_hand_little_distal_link">
    <inertial>
      <origin xyz="0.009849094 5.6e-07 0.000820286"/>
      <mass value="0.1"/>
      <inertia ixx="0.0035" ixy="0.0" ixz="0.0002" iyy="0.008" iyz="0.0" izz="0.0076"/>
    </inertial>
    <visual>
      <geometry>
        <mesh filename="meshes/fingertip.stl" scale=" .001 .001 .001"/>
      </geometry>
      <material name="SoftHand/DarkGrey"/>
    </visual>
    <collision>
      <geometry>
        <mesh filename="meshes/fingertip_collision.stl" scale=" .001 .001 .001"/>
      </geometry>
    </collision>
  </link>
  <transmission name="right_hand_thumb_abd_trans">
    <robotNamespace>right_hand</robotNamespace>
    <type>transmission_interface/SimpleTransmission</type>
    <joint name="right_hand_thumb_abd_joint">
      <hardwareInterface>EffortJointInterface</hardwareInterface>
    </joint>
    <actuator name="right_hand_thumb_abd_motor">
      <mechanicalReduction>1.0</mechanicalReduction>
    </actuator>
  </transmission>
  <transmission name="right_hand_thumb_inner_trans">
    <robotNamespace>right_hand</robotNamespace>
    <type>transmission_interface/SimpleTransmission</type>
    <joint name="right_hand_thumb_inner_joint">
      <hardwareInterface>EffortJointInterface</hardwareInterface>
    </joint>
    <actuator name="right_hand_thumb_inner_motor">
      <mechanicalReduction>1.0</mechanicalReduction>
    </actuator>
  </transmission>
  <transmission name="right_hand_thumb_inner_mimic_trans">
    <robotNamespace>right_hand</robotNamespace>
    <type>transmission_interface/SimpleTransmission</type>
    <joint name="right_hand_thumb_inner_joint_mimic">
      <hardwareInterface>EffortJointInterface</hardwareInterface>
    </joint>
    <actuator name="right_hand_thumb_inner_motor">
      <mechanicalReduction>1.0</mechanicalReduction>
    </actuator>
  </transmission>
  <transmission name="right_hand_thumb_outer_trans">
    <robotNamespace>right_hand</robotNamespace>
    <type>transmission_interface/SimpleTransmission</type>
    <joint name="right_hand_thumb_outer_joint">
      <hardwareInterface>EffortJointInterface</hardwareInterface>
    </joint>
    <actuator name="right_hand_thumb_outer_motor">
      <mechanicalReduction>1.0</mechanicalReduction>
    </actuator>
  </transmission>
  <transmission name="right_hand_thumb_outer_mimic_trans">
    <robotNamespace>right_hand</robotNamespace>
    <type>transmission_interface/SimpleTransmission</type>
    <joint name="right_hand_thumb_outer_joint_mimic">
      <hardwareInterface>EffortJointInterface</hardwareInterface>
    </joint>
    <actuator name="right_hand_thumb_outer_motor">
      <mechanicalReduction>1.0</mechanicalReduction>
    </actuator>
  </transmission>
  <transmission name="right_hand_index_abd_trans">
    <robotNamespace>right_hand</robotNamespace>
    <type>transmission_interface/SimpleTransmission</type>
    <joint name="right_hand_index_abd_joint">
      <hardwareInterface>EffortJointInterface</hardwareInterface>
    </joint>
    <actuator name="right_hand_index_abd_motor">
      <mechanicalReduction>1.0</mechanicalReduction>
    </actuator>
  </transmission>
  <transmission name="right_hand_index_inner_trans">
    <robotNamespace>right_hand</robotNamespace>
    <type>transmission_interface/SimpleTransmission</type>
    <joint name="right_hand_index_inner_joint">
      <hardwareInterface>EffortJointInterface</hardwareInterface>
    </joint>
    <actuator name="right_hand_index_inner_motor">
      <mechanicalReduction>1.0</mechanicalReduction>
    </actuator>
  </transmission>
  <transmission name="right_hand_index_inner_mimic_trans">
    <robotNamespace>right_hand</robotNamespace>
    <type>transmission_interface/SimpleTransmission</type>
    <joint name="right_hand_index_inner_joint_mimic">
      <hardwareInterface>EffortJointInterface</hardwareInterface>
    </joint>
    <actuator name="right_hand_index_inner_motor">
      <mechanicalReduction>1.0</mechanicalReduction>
    </actuator>
  </transmission>
  <transmission name="right_hand_index_middle_trans">
    <robotNamespace>right_hand</robotNamespace>
    <type>transmission_interface/SimpleTransmission</type>
    <joint name="right_hand_index_middle_joint">
      <hardwareInterface>EffortJointInterface</hardwareInterface>
    </joint>
    <actuator name="right_hand_index_middle_motor">
      <mechanicalReduction>1.0</mechanicalReduction>
    </actuator>
  </transmission>
  <transmission name="right_hand_index_middle_mimic_trans">
    <robotNamespace>right_hand</robotNamespace>
    <type>transmission_interface/SimpleTransmission</type>
    <joint name="right_hand_index_middle_joint_mimic">
      <hardwareInterface>EffortJointInterface</hardwareInterface>
    </joint>
    <actuator name="right_hand_index_middle_motor">
      <mechanicalReduction>1.0</mechanicalReduction>
    </actuator>
  </transmission>
  <transmission name="right_hand_index_outer_trans">
    <robotNamespace>right_hand</robotNamespace>
    <type>transmission_interface/SimpleTransmission</type>
    <joint name="right_hand_index_outer_joint">
      <hardwareInterface>EffortJointInterface</hardwareInterface>
    </joint>
    <actuator name="right_hand_index_outer_motor">
      <mechanicalReduction>1.0</mechanicalReduction>
    </actuator>
  </transmission>
  <transmission name="right_hand_index_outer_mimic_trans">
    <robotNamespace>right_hand</robotNamespace>
    <type>transmission_interface/SimpleTransmission</type>
    <joint name="right_hand_index_outer_joint_mimic">
      <hardwareInterface>EffortJointInterface</hardwareInterface>
    </joint>
    <actuator name="right_hand_index_outer_motor">
      <mechanicalReduction>1.0</mechanicalReduction>
    </actuator>
  </transmission>
  <transmission name="right_hand_middle_abd_trans">
    <robotNamespace>right_hand</robotNamespace>
    <type>transmission_interface/SimpleTransmission</type>
    <joint name="right_hand_middle_abd_joint">
      <hardwareInterface>EffortJointInterface</hardwareInterface>
    </joint>
    <actuator name="right_hand_middle_abd_motor">
      <mechanicalReduction>1.0</mechanicalReduction>
    </actuator>
  </transmission>
  <transmission name="right_hand_middle_inner_trans">
    <robotNamespace>right_hand</robotNamespace>
    <type>transmission_interface/SimpleTransmission</type>
    <joint name="right_hand_middle_inner_joint">
      <hardwareInterface>EffortJointInterface</hardwareInterface>
    </joint>
    <actuator name="right_hand_middle_inner_motor">
      <mechanicalReduction>1.0</mechanicalReduction>
    </actuator>
  </transmission>
  <transmission name="right_hand_middle_inner_mimic_trans">
    <robotNamespace>right_hand</robotNamespace>
    <type>transmission_interface/SimpleTransmission</type>
    <joint name="right_hand_middle_inner_joint_mimic">
      <hardwareInterface>EffortJointInterface</hardwareInterface>
    </joint>
    <actuator name="right_hand_middle_inner_motor">
      <mechanicalReduction>1.0</mechanicalReduction>
    </actuator>
  </transmission>
  <transmission name="right_hand_middle_middle_trans">
    <robotNamespace>right_hand</robotNamespace>
    <type>transmission_interface/SimpleTransmission</type>
    <joint name="right_hand_middle_middle_joint">
      <hardwareInterface>EffortJointInterface</hardwareInterface>
    </joint>
    <actuator name="right_hand_middle_middle_motor">
      <mechanicalReduction>1.0</mechanicalReduction>
    </actuator>
  </transmission>
  <transmission name="right_hand_middle_middle_mimic_trans">
    <robotNamespace>right_hand</robotNamespace>
    <type>transmission_interface/SimpleTransmission</type>
    <joint name="right_hand_middle_middle_joint_mimic">
      <hardwareInterface>EffortJointInterface</hardwareInterface>
    </joint>
    <actuator name="right_hand_middle_middle_motor">
      <mechanicalReduction>1.0</mechanicalReduction>
    </actuator>
  </transmission>
  <transmission name="right_hand_middle_outer_trans">
    <robotNamespace>right_hand</robotNamespace>
    <type>transmission_interface/SimpleTransmission</type>
    <joint name="right_hand_middle_outer_joint">
      <hardwareInterface>EffortJointInterface</hardwareInterface>
    </joint>
    <actuator name="right_hand_middle_outer_motor">
      <mechanicalReduction>1.0</mechanicalReduction>
    </actuator>
  </transmission>
  <transmission name="right_hand_middle_outer_mimic_trans">
    <robotNamespace>right_hand</robotNamespace>
    <type>transmission_interface/SimpleTransmission</type>
    <joint name="right_hand_middle_outer_joint_mimic">
      <hardwareInterface>EffortJointInterface</hardwareInterface>
    </joint>
    <actuator name="right_hand_middle_outer_motor">
      <mechanicalReduction>1.0</mechanicalReduction>
    </actuator>
  </transmission>
  <transmission name="right_hand_ring_abd_trans">
    <robotNamespace>right_hand</robotNamespace>
    <type>transmission_interface/SimpleTransmission</type>
    <joint name="right_hand_ring_abd_joint">
      <hardwareInterface>EffortJointInterface</hardwareInterface>
    </joint>
    <actuator name="right_hand_ring_abd_motor">
      <mechanicalReduction>1.0</mechanicalReduction>
    </actuator>
  </transmission>
  <transmission name="right_hand_ring_inner_trans">
    <robotNamespace>right_hand</robotNamespace>
    <type>transmission_interface/SimpleTransmission</type>
    <joint name="right_hand_ring_inner_joint">
      <hardwareInterface>EffortJointInterface</hardwareInterface>
    </joint>
    <actuator name="right_hand_ring_inner_motor">
      <mechanicalReduction>1.0</mechanicalReduction>
    </actuator>
  </transmission>
  <transmission name="right_hand_ring_inner_mimic_trans">
    <robotNamespace>right_hand</robotNamespace>
    <type>transmission_interface/SimpleTransmission</type>
    <joint name="right_hand_ring_inner_joint_mimic">
      <hardwareInterface>EffortJointInterface</hardwareInterface>
    </joint>
    <actuator name="right_hand_ring_inner_motor">
      <mechanicalReduction>1.0</mechanicalReduction>
    </actuator>
  </transmission>
  <transmission name="right_hand_ring_middle_trans">
    <robotNamespace>right_hand</robotNamespace>
    <type>transmission_interface/SimpleTransmission</type>
    <joint name="right_hand_ring_middle_joint">
      <hardwareInterface>EffortJointInterface</hardwareInterface>
    </joint>
    <actuator name="right_hand_ring_middle_motor">
      <mechanicalReduction>1.0</mechanicalReduction>
    </actuator>
  </transmission>
  <transmission name="right_hand_ring_middle_mimic_trans">
    <robotNamespace>right_hand</robotNamespace>
    <type>transmission_interface/SimpleTransmission</type>
    <joint name="right_hand_ring_middle_joint_mimic">
      <hardwareInterface>EffortJointInterface</hardwareInterface>
    </joint>
    <actuator name="right_hand_ring_middle_motor">
      <mechanicalReduction>1.0</mechanicalReduction>
    </actuator>
  </transmission>
  <transmission name="right_hand_ring_outer_trans">
    <robotNamespace>right_hand</robotNamespace>
    <type>transmission_interface/SimpleTransmission</type>
    <joint name="right_hand_ring_outer_joint">
      <hardwareInterface>EffortJointInterface</hardwareInterface>
    </joint>
    <actuator name="right_hand_ring_outer_motor">
      <mechanicalReduction>1.0</mechanicalReduction>
    </actuator>
  </transmission>
  <transmission name="right_hand_ring_outer_mimic_trans">
    <robotNamespace>right_hand</robotNamespace>
    <type>transmission_interface/SimpleTransmission</type>
    <joint name="right_hand_ring_outer_joint_mimic">
      <hardwareInterface>EffortJointInterface</hardwareInterface>
    </joint>
    <actuator name="right_hand_ring_outer_motor">
      <mechanicalReduction>1.0</mechanicalReduction>
    </actuator>
  </transmission>
  <transmission name="right_hand_little_abd_trans">
    <robotNamespace>right_hand</robotNamespace>
    <type>transmission_interface/SimpleTransmission</type>
    <joint name="right_hand_little_abd_joint">
      <hardwareInterface>EffortJointInterface</hardwareInterface>
    </joint>
    <actuator name="right_hand_little_abd_motor">
      <mechanicalReduction>1.0</mechanicalReduction>
    </actuator>
  </transmission>
  <transmission name="right_hand_little_inner_trans">
    <robotNamespace>right_hand</robotNamespace>
    <type>transmission_interface/SimpleTransmission</type>
    <joint name="right_hand_little_inner_joint">
      <hardwareInterface>EffortJointInterface</hardwareInterface>
    </joint>
    <actuator name="right_hand_little_inner_motor">
      <mechanicalReduction>1.0</mechanicalReduction>
    </actuator>
  </transmission>
  <transmission name="right_hand_little_inner_mimic_trans">
    <robotNamespace>right_hand</robotNamespace>
    <type>transmission_interface/SimpleTransmission</type>
    <joint name="right_hand_little_inner_joint_mimic">
      <hardwareInterface>EffortJointInterface</hardwareInterface>
    </joint>
    <actuator name="right_hand_little_inner_motor">
      <mechanicalReduction>1.0</mechanicalReduction>
    </actuator>
  </transmission>
  <transmission name="right_hand_little_middle_trans">
    <robotNamespace>right_hand</robotNamespace>
    <type>transmission_interface/SimpleTransmission</type>
    <joint name="right_hand_little_middle_joint">
      <hardwareInterface>EffortJointInterface</hardwareInterface>
    </joint>
    <actuator name="right_hand_little_middle_motor">
      <mechanicalReduction>1.0</mechanicalReduction>
    </actuator>
  </transmission>
  <transmission name="right_hand_little_middle_mimic_trans">
    <robotNamespace>right_hand</robotNamespace>
    <type>transmission_interface/SimpleTransmission</type>
    <joint name="right_hand_little_middle_joint_mimic">
      <hardwareInterface>EffortJointInterface</hardwareInterface>
    </joint>
    <actuator name="right_hand_little_middle_motor">
      <mechanicalReduction>1.0</mechanicalReduction>
    </actuator>
  </transmission>
  <transmission name="right_hand_little_outer_trans">
    <robotNamespace>right_hand</robotNamespace>
    <type>transmission_interface/SimpleTransmission</type>
    <joint name="right_hand_little_outer_joint">
      <hardwareInterface>EffortJointInterface</hardwareInterface>
    </joint>
    <actuator name="right_hand_little_outer_motor">
      <mechanicalReduction>1.0</mechanicalReduction>
    </actuator>
  </transmission>
  <transmission name="right_hand_little_outer_mimic_trans">
    <robotNamespace>right_hand</robotNamespace>
    <type>transmission_interface/SimpleTransmission</type>
    <joint name="right_hand_little_outer_joint_mimic">
      <hardwareInterface>EffortJointInterface</hardwareInterface>
    </joint>
    <actuator name="right_hand_little_outer_motor">
      <mechanicalReduction>1.0</mechanicalReduction>
    </actuator>
  </transmission>
  <gazebo>
    <plugin filename="libgazebo_ros_control.so" name="gazebo_ros_control">
      <robotNamespace>right_hand</robotNamespace>
    </plugin>
  </gazebo>
  <!-- LINKS -->
  <gazebo reference="right_hand_palm_link">
    <sensor name="right_hand_palm_link_contact" type="contact">
      <!-- the gazebo contact sensor -->
      <always_on>1</always_on>
      <update_rate>1000.0</update_rate>
      <contact>
        <collision>right_hand_palm_link_collision</collision>
        <topic>right_hand_palm_link_collision</topic>
      </contact>
      <!-- to publish a ros message with contact information -->
      <plugin filename="libgazebo_ros_bumper.so" name="right_hand_palm_link_gazebo_ros_bumper_plugin">
        <alwaysOn>true</alwaysOn>
        <frameName>right_hand_palm_link</frameName>
        <updateRate>100.0</updateRate>
        <bumperTopicName>/contacts/right_hand_palm_link</bumperTopicName>
      </plugin>
    </sensor>
    <gravity>true</gravity>
    <mu1>500.0</mu1>
    <mu2>500.0</mu2>
    <kp>1000000.0</kp>
    <kd>100.0</kd>
    <!-- <fdir1>string</fdir1> -->
    <!-- <dampingFactor>double</dampingFactor> -->
    <!-- <maxVel>double</maxVel> -->
    <!-- <minDepth>double</minDepth> -->
    <!-- <maxContacts>int</maxContacts> -->
  </gazebo>
  <gazebo reference="right_hand_thumb_knuckle_link">
    <sensor name="right_hand_thumb_knuckle_link_contact" type="contact">
      <!-- the gazebo contact sensor -->
      <always_on>1</always_on>
      <update_rate>1000.0</update_rate>
      <contact>
        <collision>right_hand_thumb_knuckle_link_collision</collision>
        <topic>right_hand_thumb_knuckle_link_collision</topic>
      </contact>
      <!-- to publish a ros message with contact information -->
      <plugin filename="libgazebo_ros_bumper.so" name="right_hand_thumb_knuckle_link_gazebo_ros_bumper_plugin">
        <alwaysOn>true</alwaysOn>
        <frameName>right_hand_thumb_knuckle_link</frameName>
        <updateRate>100.0</updateRate>
        <bumperTopicName>/contacts/right_hand_thumb_knuckle_link</bumperTopicName>
      </plugin>
    </sensor>
    <gravity>true</gravity>
    <mu1>500.0</mu1>
    <mu2>500.0</mu2>
    <kp>1000000.0</kp>
    <kd>100.0</kd>
    <!-- <fdir1>string</fdir1> -->
    <!-- <dampingFactor>double</dampingFactor> -->
    <!-- <maxVel>double</maxVel> -->
    <!-- <minDepth>double</minDepth> -->
    <!-- <maxContacts>int</maxContacts> -->
  </gazebo>
  <gazebo reference="right_hand_thumb_proximal_link">
    <sensor name="right_hand_thumb_proximal_link_contact" type="contact">
      <!-- the gazebo contact sensor -->
      <always_on>1</always_on>
      <update_rate>1000.0</update_rate>
      <contact>
        <collision>right_hand_thumb_proximal_link_collision</collision>
        <topic>right_hand_thumb_proximal_link_collision</topic>
      </contact>
      <!-- to publish a ros message with contact information -->
      <plugin filename="libgazebo_ros_bumper.so" name="right_hand_thumb_proximal_link_gazebo_ros_bumper_plugin">
        <alwaysOn>true</alwaysOn>
        <frameName>right_hand_thumb_proximal_link</frameName>
        <updateRate>100.0</updateRate>
        <bumperTopicName>/contacts/right_hand_thumb_proximal_link</bumperTopicName>
      </plugin>
    </sensor>
    <gravity>true</gravity>
    <mu1>500.0</mu1>
    <mu2>500.0</mu2>
    <kp>1000000.0</kp>
    <kd>100.0</kd>
    <!-- <fdir1>string</fdir1> -->
    <!-- <dampingFactor>double</dampingFactor> -->
    <!-- <maxVel>double</maxVel> -->
    <!-- <minDepth>double</minDepth> -->
    <!-- <maxContacts>int</maxContacts> -->
  </gazebo>
  <gazebo reference="right_hand_thumb_distal_link">
    <sensor name="right_hand_thumb_distal_link_contact" type="contact">
      <!-- the gazebo contact sensor -->
      <always_on>1</always_on>
      <update_rate>1000.0</update_rate>
      <contact>
        <collision>right_hand_thumb_distal_link_collision</collision>
        <topic>right_hand_thumb_distal_link_collision</topic>
      </contact>
      <!-- to publish a ros message with contact information -->
      <plugin filename="libgazebo_ros_bumper.so" name="right_hand_thumb_distal_link_gazebo_ros_bumper_plugin">
        <alwaysOn>true</alwaysOn>
        <frameName>right_hand_thumb_distal_link</frameName>
        <updateRate>100.0</updateRate>
        <bumperTopicName>/contacts/right_hand_thumb_distal_link</bumperTopicName>
      </plugin>
    </sensor>
    <gravity>true</gravity>
    <mu1>500.0</mu1>
    <mu2>500.0</mu2>
    <kp>1000000.0</kp>
    <kd>100.0</kd>
    <!-- <fdir1>string</fdir1> -->
    <!-- <dampingFactor>double</dampingFactor> -->
    <!-- <maxVel>double</maxVel> -->
    <!-- <minDepth>double</minDepth> -->
    <!-- <maxContacts>int</maxContacts> -->
  </gazebo>
  <gazebo reference="right_hand_index_knuckle_link">
    <sensor name="right_hand_index_knuckle_link_contact" type="contact">
      <!-- the gazebo contact sensor -->
      <always_on>1</always_on>
      <update_rate>1000.0</update_rate>
      <contact>
        <collision>right_hand_index_knuckle_link_collision</collision>
        <topic>right_hand_index_knuckle_link_collision</topic>
      </contact>
      <!-- to publish a ros message with contact information -->
      <plugin filename="libgazebo_ros_bumper.so" name="right_hand_index_knuckle_link_gazebo_ros_bumper_plugin">
        <alwaysOn>true</alwaysOn>
        <frameName>right_hand_index_knuckle_link</frameName>
        <updateRate>100.0</updateRate>
        <bumperTopicName>/contacts/right_hand_index_knuckle_link</bumperTopicName>
      </plugin>
    </sensor>
    <gravity>true</gravity>
    <mu1>500.0</mu1>
    <mu2>500.0</mu2>
    <kp>1000000.0</kp>
    <kd>100.0</kd>
    <!-- <fdir1>string</fdir1> -->
    <!-- <dampingFactor>double</dampingFactor> -->
    <!-- <maxVel>double</maxVel> -->
    <!-- <minDepth>double</minDepth> -->
    <!-- <maxContacts>int</maxContacts> -->
  </gazebo>
  <gazebo reference="right_hand_index_proximal_link">
    <sensor name="right_hand_index_proximal_link_contact" type="contact">
      <!-- the gazebo contact sensor -->
      <always_on>1</always_on>
      <update_rate>1000.0</update_rate>
      <contact>
        <collision>right_hand_index_proximal_link_collision</collision>
        <topic>right_hand_index_proximal_link_collision</topic>
      </contact>
      <!-- to publish a ros message with contact information -->
      <plugin filename="libgazebo_ros_bumper.so" name="right_hand_index_proximal_link_gazebo_ros_bumper_plugin">
        <alwaysOn>true</alwaysOn>
        <frameName>right_hand_index_proximal_link</frameName>
        <updateRate>100.0</updateRate>
        <bumperTopicName>/contacts/right_hand_index_proximal_link</bumperTopicName>
      </plugin>
    </sensor>
    <gravity>true</gravity>
    <mu1>500.0</mu1>
    <mu2>500.0</mu2>
    <kp>1000000.0</kp>
    <kd>100.0</kd>
    <!-- <fdir1>string</fdir1> -->
    <!-- <dampingFactor>double</dampingFactor> -->
    <!-- <maxVel>double</maxVel> -->
    <!-- <minDepth>double</minDepth> -->
    <!-- <maxContacts>int</maxContacts> -->
  </gazebo>
  <gazebo reference="right_hand_index_middle_link">
    <sensor name="right_hand_index_middle_link_contact" type="contact">
      <!-- the gazebo contact sensor -->
      <always_on>1</always_on>
      <update_rate>1000.0</update_rate>
      <contact>
        <collision>right_hand_index_middle_link_collision</collision>
        <topic>right_hand_index_middle_link_collision</topic>
      </contact>
      <!-- to publish a ros message with contact information -->
      <plugin filename="libgazebo_ros_bumper.so" name="right_hand_index_middle_link_gazebo_ros_bumper_plugin">
        <alwaysOn>true</alwaysOn>
        <frameName>right_hand_index_middle_link</frameName>
        <updateRate>100.0</updateRate>
        <bumperTopicName>/contacts/right_hand_index_middle_link</bumperTopicName>
      </plugin>
    </sensor>
    <gravity>true</gravity>
    <mu1>500.0</mu1>
    <mu2>500.0</mu2>
    <kp>1000000.0</kp>
    <kd>100.0</kd>
    <!-- <fdir1>string</fdir1> -->
    <!-- <dampingFactor>double</dampingFactor> -->
    <!-- <maxVel>double</maxVel> -->
    <!-- <minDepth>double</minDepth> -->
    <!-- <maxContacts>int</maxContacts> -->
  </gazebo>
  <gazebo reference="right_hand_index_distal_link">
    <sensor name="right_hand_index_distal_link_contact" type="contact">
      <!-- the gazebo contact sensor -->
      <always_on>1</always_on>
      <update_rate>1000.0</update_rate>
      <contact>
        <collision>right_hand_index_distal_link_collision</collision>
        <topic>right_hand_index_distal_link_collision</topic>
      </contact>
      <!-- to publish a ros message with contact information -->
      <plugin filename="libgazebo_ros_bumper.so" name="right_hand_index_distal_link_gazebo_ros_bumper_plugin">
        <alwaysOn>true</alwaysOn>
        <frameName>right_hand_index_distal_link</frameName>
        <updateRate>100.0</updateRate>
        <bumperTopicName>/contacts/right_hand_index_distal_link</bumperTopicName>
      </plugin>
    </sensor>
    <gravity>true</gravity>
    <mu1>500.0</mu1>
    <mu2>500.0</mu2>
    <kp>1000000.0</kp>
    <kd>100.0</kd>
    <!-- <fdir1>string</fdir1> -->
    <!-- <dampingFactor>double</dampingFactor> -->
    <!-- <maxVel>double</maxVel> -->
    <!-- <minDepth>double</minDepth> -->
    <!-- <maxContacts>int</maxContacts> -->
  </gazebo>
  <gazebo reference="right_hand_middle_knuckle_link">
    <sensor name="right_hand_middle_knuckle_link_contact" type="contact">
      <!-- the gazebo contact sensor -->
      <always_on>1</always_on>
      <update_rate>1000.0</update_rate>
      <contact>
        <collision>right_hand_middle_knuckle_link_collision</collision>
        <topic>right_hand_middle_knuckle_link_collision</topic>
      </contact>
      <!-- to publish a ros message with contact information -->
      <plugin filename="libgazebo_ros_bumper.so" name="right_hand_middle_knuckle_link_gazebo_ros_bumper_plugin">
        <alwaysOn>true</alwaysOn>
        <frameName>right_hand_middle_knuckle_link</frameName>
        <updateRate>100.0</updateRate>
        <bumperTopicName>/contacts/right_hand_middle_knuckle_link</bumperTopicName>
      </plugin>
    </sensor>
    <gravity>true</gravity>
    <mu1>500.0</mu1>
    <mu2>500.0</mu2>
    <kp>1000000.0</kp>
    <kd>100.0</kd>
    <!-- <fdir1>string</fdir1> -->
    <!-- <dampingFactor>double</dampingFactor> -->
    <!-- <maxVel>double</maxVel> -->
    <!-- <minDepth>double</minDepth> -->
    <!-- <maxContacts>int</maxContacts> -->
  </gazebo>
  <gazebo reference="right_hand_middle_proximal_link">
    <sensor name="right_hand_middle_proximal_link_contact" type="contact">
      <!-- the gazebo contact sensor -->
      <always_on>1</always_on>
      <update_rate>1000.0</update_rate>
      <contact>
        <collision>right_hand_middle_proximal_link_collision</collision>
        <topic>right_hand_middle_proximal_link_collision</topic>
      </contact>
      <!-- to publish a ros message with contact information -->
      <plugin filename="libgazebo_ros_bumper.so" name="right_hand_middle_proximal_link_gazebo_ros_bumper_plugin">
        <alwaysOn>true</alwaysOn>
        <frameName>right_hand_middle_proximal_link</frameName>
        <updateRate>100.0</updateRate>
        <bumperTopicName>/contacts/right_hand_middle_proximal_link</bumperTopicName>
      </plugin>
    </sensor>
    <gravity>true</gravity>
    <mu1>500.0</mu1>
    <mu2>500.0</mu2>
    <kp>1000000.0</kp>
    <kd>100.0</kd>
    <!-- <fdir1>string</fdir1> -->
    <!-- <dampingFactor>double</dampingFactor> -->
    <!-- <maxVel>double</maxVel> -->
    <!-- <minDepth>double</minDepth> -->
    <!-- <maxContacts>int</maxContacts> -->
  </gazebo>
  <gazebo reference="right_hand_middle_middle_link">
    <sensor name="right_hand_middle_middle_link_contact" type="contact">
      <!-- the gazebo contact sensor -->
      <always_on>1</always_on>
      <update_rate>1000.0</update_rate>
      <contact>
        <collision>right_hand_middle_middle_link_collision</collision>
        <topic>right_hand_middle_middle_link_collision</topic>
      </contact>
      <!-- to publish a ros message with contact information -->
      <plugin filename="libgazebo_ros_bumper.so" name="right_hand_middle_middle_link_gazebo_ros_bumper_plugin">
        <alwaysOn>true</alwaysOn>
        <frameName>right_hand_middle_middle_link</frameName>
        <updateRate>100.0</updateRate>
        <bumperTopicName>/contacts/right_hand_middle_middle_link</bumperTopicName>
      </plugin>
    </sensor>
    <gravity>true</gravity>
    <mu1>500.0</mu1>
    <mu2>500.0</mu2>
    <kp>1000000.0</kp>
    <kd>100.0</kd>
    <!-- <fdir1>string</fdir1> -->
    <!-- <dampingFactor>double</dampingFactor> -->
    <!-- <maxVel>double</maxVel> -->
    <!-- <minDepth>double</minDepth> -->
    <!-- <maxContacts>int</maxContacts> -->
  </gazebo>
  <gazebo reference="right_hand_middle_distal_link">
    <sensor name="right_hand_middle_distal_link_contact" type="contact">
      <!-- the gazebo contact sensor -->
      <always_on>1</always_on>
      <update_rate>1000.0</update_rate>
      <contact>
        <collision>right_hand_middle_distal_link_collision</collision>
        <topic>right_hand_middle_distal_link_collision</topic>
      </contact>
      <!-- to publish a ros message with contact information -->
      <plugin filename="libgazebo_ros_bumper.so" name="right_hand_middle_distal_link_gazebo_ros_bumper_plugin">
        <alwaysOn>true</alwaysOn>
        <frameName>right_hand_middle_distal_link</frameName>
        <updateRate>100.0</updateRate>
        <bumperTopicName>/contacts/right_hand_middle_distal_link</bumperTopicName>
      </plugin>
    </sensor>
    <gravity>true</gravity>
    <mu1>500.0</mu1>
    <mu2>500.0</mu2>
    <kp>1000000.0</kp>
    <kd>100.0</kd>
    <!-- <fdir1>string</fdir1> -->
    <!-- <dampingFactor>double</dampingFactor> -->
    <!-- <maxVel>double</maxVel> -->
    <!-- <minDepth>double</minDepth> -->
    <!-- <maxContacts>int</maxContacts> -->
  </gazebo>
  <gazebo reference="right_hand_ring_knuckle_link">
    <sensor name="right_hand_ring_knuckle_link_contact" type="contact">
      <!-- the gazebo contact sensor -->
      <always_on>1</always_on>
      <update_rate>1000.0</update_rate>
      <contact>
        <collision>right_hand_ring_knuckle_link_collision</collision>
        <topic>right_hand_ring_knuckle_link_collision</topic>
      </contact>
      <!-- to publish a ros message with contact information -->
      <plugin filename="libgazebo_ros_bumper.so" name="right_hand_ring_knuckle_link_gazebo_ros_bumper_plugin">
        <alwaysOn>true</alwaysOn>
        <frameName>right_hand_ring_knuckle_link</frameName>
        <updateRate>100.0</updateRate>
        <bumperTopicName>/contacts/right_hand_ring_knuckle_link</bumperTopicName>
      </plugin>
    </sensor>
    <gravity>true</gravity>
    <mu1>500.0</mu1>
    <mu2>500.0</mu2>
    <kp>1000000.0</kp>
    <kd>100.0</kd>
    <!-- <fdir1>string</fdir1> -->
    <!-- <dampingFactor>double</dampingFactor> -->
    <!-- <maxVel>double</maxVel> -->
    <!-- <minDepth>double</minDepth> -->
    <!-- <maxContacts>int</maxContacts> -->
  </gazebo>
  <gazebo reference="right_hand_ring_proximal_link">
    <sensor name="right_hand_ring_proximal_link_contact" type="contact">
      <!-- the gazebo contact sensor -->
      <always_on>1</always_on>
      <update_rate>1000.0</update_rate>
      <contact>
        <collision>right_hand_ring_proximal_link_collision</collision>
        <topic>right_hand_ring_proximal_link_collision</topic>
      </contact>
      <!-- to publish a ros message with contact information -->
      <plugin filename="libgazebo_ros_bumper.so" name="right_hand_ring_proximal_link_gazebo_ros_bumper_plugin">
        <alwaysOn>true</alwaysOn>
        <frameName>right_hand_ring_proximal_link</frameName>
        <updateRate>100.0</updateRate>
        <bumperTopicName>/contacts/right_hand_ring_proximal_link</bumperTopicName>
      </plugin>
    </sensor>
    <gravity>true</gravity>
    <mu1>500.0</mu1>
    <mu2>500.0</mu2>
    <kp>1000000.0</kp>
    <kd>100.0</kd>
    <!-- <fdir1>string</fdir1> -->
    <!-- <dampingFactor>double</dampingFactor> -->
    <!-- <maxVel>double</maxVel> -->
    <!-- <minDepth>double</minDepth> -->
    <!-- <maxContacts>int</maxContacts> -->
  </gazebo>
  <gazebo reference="right_hand_ring_middle_link">
    <sensor name="right_hand_ring_middle_link_contact" type="contact">
      <!-- the gazebo contact sensor -->
      <always_on>1</always_on>
      <update_rate>1000.0</update_rate>
      <contact>
        <collision>right_hand_ring_middle_link_collision</collision>
        <topic>right_hand_ring_middle_link_collision</topic>
      </contact>
      <!-- to publish a ros message with contact information -->
      <plugin filename="libgazebo_ros_bumper.so" name="right_hand_ring_middle_link_gazebo_ros_bumper_plugin">
        <alwaysOn>true</alwaysOn>
        <frameName>right_hand_ring_middle_link</frameName>
        <updateRate>100.0</updateRate>
        <bumperTopicName>/contacts/right_hand_ring_middle_link</bumperTopicName>
      </plugin>
    </sensor>
    <gravity>true</gravity>
    <mu1>500.0</mu1>
    <mu2>500.0</mu2>
    <kp>1000000.0</kp>
    <kd>100.0</kd>
    <!-- <fdir1>string</fdir1> -->
    <!-- <dampingFactor>double</dampingFactor> -->
    <!-- <maxVel>double</maxVel> -->
    <!-- <minDepth>double</minDepth> -->
    <!-- <maxContacts>int</maxContacts> -->
  </gazebo>
  <gazebo reference="right_hand_ring_distal_link">
    <sensor name="right_hand_ring_distal_link_contact" type="contact">
      <!-- the gazebo contact sensor -->
      <always_on>1</always_on>
      <update_rate>1000.0</update_rate>
      <contact>
        <collision>right_hand_ring_distal_link_collision</collision>
        <topic>right_hand_ring_distal_link_collision</topic>
      </contact>
      <!-- to publish a ros message with contact information -->
      <plugin filename="libgazebo_ros_bumper.so" name="right_hand_ring_distal_link_gazebo_ros_bumper_plugin">
        <alwaysOn>true</alwaysOn>
        <frameName>right_hand_ring_distal_link</frameName>
        <updateRate>100.0</updateRate>
        <bumperTopicName>/contacts/right_hand_ring_distal_link</bumperTopicName>
      </plugin>
    </sensor>
    <gravity>true</gravity>
    <mu1>500.0</mu1>
    <mu2>500.0</mu2>
    <kp>1000000.0</kp>
    <kd>100.0</kd>
    <!-- <fdir1>string</fdir1> -->
    <!-- <dampingFactor>double</dampingFactor> -->
    <!-- <maxVel>double</maxVel> -->
    <!-- <minDepth>double</minDepth> -->
    <!-- <maxContacts>int</maxContacts> -->
  </gazebo>
  <gazebo reference="right_hand_little_knuckle_link">
    <sensor name="right_hand_little_knuckle_link_contact" type="contact">
      <!-- the gazebo contact sensor -->
      <always_on>1</always_on>
      <update_rate>1000.0</update_rate>
      <contact>
        <collision>right_hand_little_knuckle_link_collision</collision>
        <topic>right_hand_little_knuckle_link_collision</topic>
      </contact>
      <!-- to publish a ros message with contact information -->
      <plugin filename="libgazebo_ros_bumper.so" name="right_hand_little_knuckle_link_gazebo_ros_bumper_plugin">
        <alwaysOn>true</alwaysOn>
        <frameName>right_hand_little_knuckle_link</frameName>
        <updateRate>100.0</updateRate>
        <bumperTopicName>/contacts/right_hand_little_knuckle_link</bumperTopicName>
      </plugin>
    </sensor>
    <gravity>true</gravity>
    <mu1>500.0</mu1>
    <mu2>500.0</mu2>
    <kp>1000000.0</kp>
    <kd>100.0</kd>
    <!-- <fdir1>string</fdir1> -->
    <!-- <dampingFactor>double</dampingFactor> -->
    <!-- <maxVel>double</maxVel> -->
    <!-- <minDepth>double</minDepth> -->
    <!-- <maxContacts>int</maxContacts> -->
  </gazebo>
  <gazebo reference="right_hand_little_proximal_link">
    <sensor name="right_hand_little_proximal_link_contact" type="contact">
      <!-- the gazebo contact sensor -->
      <always_on>1</always_on>
      <update_rate>1000.0</update_rate>
      <contact>
        <collision>right_hand_little_proximal_link_collision</collision>
        <topic>right_hand_little_proximal_link_collision</topic>
      </contact>
      <!-- to publish a ros message with contact information -->
      <plugin filename="libgazebo_ros_bumper.so" name="right_hand_little_proximal_link_gazebo_ros_bumper_plugin">
        <alwaysOn>true</alwaysOn>
        <frameName>right_hand_little_proximal_link</frameName>
        <updateRate>100.0</updateRate>
        <bumperTopicName>/contacts/right_hand_little_proximal_link</bumperTopicName>
      </plugin>
    </sensor>
    <gravity>true</gravity>
    <mu1>500.0</mu1>
    <mu2>500.0</mu2>
    <kp>1000000.0</kp>
    <kd>100.0</kd>
    <!-- <fdir1>string</fdir1> -->
    <!-- <dampingFactor>double</dampingFactor> -->
    <!-- <maxVel>double</maxVel> -->
    <!-- <minDepth>double</minDepth> -->
    <!-- <maxContacts>int</maxContacts> -->
  </gazebo>
  <gazebo reference="right_hand_little_middle_link">
    <sensor name="right_hand_little_middle_link_contact" type="contact">
      <!-- the gazebo contact sensor -->
      <always_on>1</always_on>
      <update_rate>1000.0</update_rate>
      <contact>
        <collision>right_hand_little_middle_link_collision</collision>
        <topic>right_hand_little_middle_link_collision</topic>
      </contact>
      <!-- to publish a ros message with contact information -->
      <plugin filename="libgazebo_ros_bumper.so" name="right_hand_little_middle_link_gazebo_ros_bumper_plugin">
        <alwaysOn>true</alwaysOn>
        <frameName>right_hand_little_middle_link</frameName>
        <updateRate>100.0</updateRate>
        <bumperTopicName>/contacts/right_hand_little_middle_link</bumperTopicName>
      </plugin>
    </sensor>
    <gravity>true</gravity>
    <mu1>500.0</mu1>
    <mu2>500.0</mu2>
    <kp>1000000.0</kp>
    <kd>100.0</kd>
    <!-- <fdir1>string</fdir1> -->
    <!-- <dampingFactor>double</dampingFactor> -->
    <!-- <maxVel>double</maxVel> -->
    <!-- <minDepth>double</minDepth> -->
    <!-- <maxContacts>int</maxContacts> -->
  </gazebo>
  <gazebo reference="right_hand_little_distal_link">
    <sensor name="right_hand_little_distal_link_contact" type="contact">
      <!-- the gazebo contact sensor -->
      <always_on>1</always_on>
      <update_rate>1000.0</update_rate>
      <contact>
        <collision>right_hand_little_distal_link_collision</collision>
        <topic>right_hand_little_distal_link_collision</topic>
      </contact>
      <!-- to publish a ros message with contact information -->
      <plugin filename="libgazebo_ros_bumper.so" name="right_hand_little_distal_link_gazebo_ros_bumper_plugin">
        <alwaysOn>true</alwaysOn>
        <frameName>right_hand_little_distal_link</frameName>
        <updateRate>100.0</updateRate>
        <bumperTopicName>/contacts/right_hand_little_distal_link</bumperTopicName>
      </plugin>
    </sensor>
    <gravity>true</gravity>
    <mu1>500.0</mu1>
    <mu2>500.0</mu2>
    <kp>1000000.0</kp>
    <kd>100.0</kd>
    <!-- <fdir1>string</fdir1> -->
    <!-- <dampingFactor>double</dampingFactor> -->
    <!-- <maxVel>double</maxVel> -->
    <!-- <minDepth>double</minDepth> -->
    <!-- <maxContacts>int</maxContacts> -->
  </gazebo>
  <!-- JOINTS -->
  <gazebo reference="right_hand_thumb_abd_joint">
    <provideFeedback>True</provideFeedback>
    <!--
		<kp> </kp>
		<kd> 1.0 </kd>
		<stopCfm> </stopCfm>
		<stopErp> </stopErp>
		<cfmDamping> </cfmDamping>
		<fudgeFactor> </fudgeFactor>
		-->
  </gazebo>
  <gazebo reference="right_hand_thumb_inner_joint">
    <provideFeedback>True</provideFeedback>
    <!--
		<kp> </kp>
		<kd> 1.0 </kd>
		<stopCfm> </stopCfm>
		<stopErp> </stopErp>
		<cfmDamping> </cfmDamping>
		<fudgeFactor> </fudgeFactor>
		-->
  </gazebo>
  <gazebo reference="right_hand_thumb_outer_joint">
    <provideFeedback>True</provideFeedback>
    <!--
		<kp> </kp>
		<kd> 1.0 </kd>
		<stopCfm> </stopCfm>
		<stopErp> </stopErp>
		<cfmDamping> </cfmDamping>
		<fudgeFactor> </fudgeFactor>
		-->
  </gazebo>
  <gazebo reference="right_hand_index_abd_joint">
    <provideFeedback>True</provideFeedback>
    <!--
		<kp> </kp>
		<kd> 1.0 </kd>
		<stopCfm> </stopCfm>
		<stopErp> </stopErp>
		<cfmDamping> </cfmDamping>
		<fudgeFactor> </fudgeFactor>
		-->
  </gazebo>
  <gazebo reference="right_hand_index_inner_joint">
    <provideFeedback>True</provideFeedback>
    <!--
		<kp> </kp>
		<kd> 1.0 </kd>
		<stopCfm> </stopCfm>
		<stopErp> </stopErp>
		<cfmDamping> </cfmDamping>
		<fudgeFactor> </fudgeFactor>
		-->
  </gazebo>
  <gazebo reference="right_hand_index_middle_joint">
    <provideFeedback>True</provideFeedback>
    <!--
		<kp> </kp>
		<kd> 1.0 </kd>
		<stopCfm> </stopCfm>
		<stopErp> </stopErp>
		<cfmDamping> </cfmDamping>
		<fudgeFactor> </fudgeFactor>
		-->
  </gazebo>
  <gazebo reference="right_hand_index_outer_joint">
    <provideFeedback>True</provideFeedback>
    <!--
		<kp> </kp>
		<kd> 1.0 </kd>
		<stopCfm> </stopCfm>
		<stopErp> </stopErp>
		<cfmDamping> </cfmDamping>
		<fudgeFactor> </fudgeFactor>
		-->
  </gazebo>
  <gazebo reference="right_hand_middle_abd_joint">
    <provideFeedback>True</provideFeedback>
    <!--
		<kp> </kp>
		<kd> 1.0 </kd>
		<stopCfm> </stopCfm>
		<stopErp> </stopErp>
		<cfmDamping> </cfmDamping>
		<fudgeFactor> </fudgeFactor>
		-->
  </gazebo>
  <gazebo reference="right_hand_middle_inner_joint">
    <provideFeedback>True</provideFeedback>
    <!--
		<kp> </kp>
		<kd> 1.0 </kd>
		<stopCfm> </stopCfm>
		<stopErp> </stopErp>
		<cfmDamping> </cfmDamping>
		<fudgeFactor> </fudgeFactor>
		-->
  </gazebo>
  <gazebo reference="right_hand_middle_middle_joint">
    <provideFeedback>True</provideFeedback>
    <!--
		<kp> </kp>
		<kd> 1.0 </kd>
		<stopCfm> </stopCfm>
		<stopErp> </stopErp>
		<cfmDamping> </cfmDamping>
		<fudgeFactor> </fudgeFactor>
		-->
  </gazebo>
  <gazebo reference="right_hand_middle_outer_joint">
    <provideFeedback>True</provideFeedback>
    <!--
		<kp> </kp>
		<kd> 1.0 </kd>
		<stopCfm> </stopCfm>
		<stopErp> </stopErp>
		<cfmDamping> </cfmDamping>
		<fudgeFactor> </fudgeFactor>
		-->
  </gazebo>
  <gazebo reference="right_hand_ring_abd_joint">
    <provideFeedback>True</provideFeedback>
    <!--
		<kp> </kp>
		<kd> 1.0 </kd>
		<stopCfm> </stopCfm>
		<stopErp> </stopErp>
		<cfmDamping> </cfmDamping>
		<fudgeFactor> </fudgeFactor>
		-->
  </gazebo>
  <gazebo reference="right_hand_ring_inner_joint">
    <provideFeedback>True</provideFeedback>
    <!--
		<kp> </kp>
		<kd> 1.0 </kd>
		<stopCfm> </stopCfm>
		<stopErp> </stopErp>
		<cfmDamping> </cfmDamping>
		<fudgeFactor> </fudgeFactor>
		-->
  </gazebo>
  <gazebo reference="right_hand_ring_middle_joint">
    <provideFeedback>True</provideFeedback>
    <!--
		<kp> </kp>
		<kd> 1.0 </kd>
		<stopCfm> </stopCfm>
		<stopErp> </stopErp>
		<cfmDamping> </cfmDamping>
		<fudgeFactor> </fudgeFactor>
		-->
  </gazebo>
  <gazebo reference="right_hand_ring_outer_joint">
    <provideFeedback>True</provideFeedback>
    <!--
		<kp> </kp>
		<kd> 1.0 </kd>
		<stopCfm> </stopCfm>
		<stopErp> </stopErp>
		<cfmDamping> </cfmDamping>
		<fudgeFactor> </fudgeFactor>
		-->
  </gazebo>
  <gazebo reference="right_hand_little_abd_joint">
    <provideFeedback>True</provideFeedback>
    <!--
		<kp> </kp>
		<kd> 1.0 </kd>
		<stopCfm> </stopCfm>
		<stopErp> </stopErp>
		<cfmDamping> </cfmDamping>
		<fudgeFactor> </fudgeFactor>
		-->
  </gazebo>
  <gazebo reference="right_hand_little_inner_joint">
    <provideFeedback>True</provideFeedback>
    <!--
		<kp> </kp>
		<kd> 1.0 </kd>
		<stopCfm> </stopCfm>
		<stopErp> </stopErp>
		<cfmDamping> </cfmDamping>
		<fudgeFactor> </fudgeFactor>
		-->
  </gazebo>
  <gazebo reference="right_hand_little_middle_joint">
    <provideFeedback>True</provideFeedback>
    <!--
		<kp> </kp>
		<kd> 1.0 </kd>
		<stopCfm> </stopCfm>
		<stopErp> </stopErp>
		<cfmDamping> </cfmDamping>
		<fudgeFactor> </fudgeFactor>
		-->
  </gazebo>
  <gazebo reference="right_hand_little_outer_joint">
    <provideFeedback>True</provideFeedback>
    <!--
		<kp> </kp>
		<kd> 1.0 </kd>
		<stopCfm> </stopCfm>
		<stopErp> </stopErp>
		<cfmDamping> </cfmDamping>
		<fudgeFactor> </fudgeFactor>
		-->
  </gazebo>
  <!-- mimic joints -->
  <gazebo reference="right_hand_thumb_inner_joint_mimic">
    <provideFeedback>True</provideFeedback>
    <!--
		<kp> </kp>
		<kd> 1.0 </kd>
		<stopCfm> </stopCfm>
		<stopErp> </stopErp>
		<cfmDamping> </cfmDamping>
		<fudgeFactor> </fudgeFactor>
		-->
  </gazebo>
  <gazebo reference="right_hand_thumb_outer_joint_mimic">
    <provideFeedback>True</provideFeedback>
    <!--
		<kp> </kp>
		<kd> 1.0 </kd>
		<stopCfm> </stopCfm>
		<stopErp> </stopErp>
		<cfmDamping> </cfmDamping>
		<fudgeFactor> </fudgeFactor>
		-->
  </gazebo>
  <gazebo reference="right_hand_index_inner_joint_mimic">
    <provideFeedback>True</provideFeedback>
    <!--
		<kp> </kp>
		<kd> 1.0 </kd>
		<stopCfm> </stopCfm>
		<stopErp> </stopErp>
		<cfmDamping> </cfmDamping>
		<fudgeFactor> </fudgeFactor>
		-->
  </gazebo>
  <gazebo reference="right_hand_index_middle_joint_mimic">
    <provideFeedback>True</provideFeedback>
    <!--
		<kp> </kp>
		<kd> 1.0 </kd>
		<stopCfm> </stopCfm>
		<stopErp> </stopErp>
		<cfmDamping> </cfmDamping>
		<fudgeFactor> </fudgeFactor>
		-->
  </gazebo>
  <gazebo reference="right_hand_index_outer_joint_mimic">
    <provideFeedback>True</provideFeedback>
    <!--
		<kp> </kp>
		<kd> 1.0 </kd>
		<stopCfm> </stopCfm>
		<stopErp> </stopErp>
		<cfmDamping> </cfmDamping>
		<fudgeFactor> </fudgeFactor>
		-->
  </gazebo>
  <gazebo reference="right_hand_middle_inner_joint_mimic">
    <provideFeedback>True</provideFeedback>
    <!--
		<kp> </kp>
		<kd> 1.0 </kd>
		<stopCfm> </stopCfm>
		<stopErp> </stopErp>
		<cfmDamping> </cfmDamping>
		<fudgeFactor> </fudgeFactor>
		-->
  </gazebo>
  <gazebo reference="right_hand_middle_middle_joint_mimic">
    <provideFeedback>True</provideFeedback>
    <!--
		<kp> </kp>
		<kd> 1.0 </kd>
		<stopCfm> </stopCfm>
		<stopErp> </stopErp>
		<cfmDamping> </cfmDamping>
		<fudgeFactor> </fudgeFactor>
		-->
  </gazebo>
  <gazebo reference="right_hand_middle_outer_joint_mimic">
    <provideFeedback>True</provideFeedback>
    <!--
		<kp> </kp>
		<kd> 1.0 </kd>
		<stopCfm> </stopCfm>
		<stopErp> </stopErp>
		<cfmDamping> </cfmDamping>
		<fudgeFactor> </fudgeFactor>
		-->
  </gazebo>
  <gazebo reference="right_hand_ring_inner_joint_mimic">
    <provideFeedback>True</provideFeedback>
    <!--
		<kp> </kp>
		<kd> 1.0 </kd>
		<stopCfm> </stopCfm>
		<stopErp> </stopErp>
		<cfmDamping> </cfmDamping>
		<fudgeFactor> </fudgeFactor>
		-->
  </gazebo>
  <gazebo reference="right_hand_ring_middle_joint_mimic">
    <provideFeedback>True</provideFeedback>
    <!--
		<kp> </kp>
		<kd> 1.0 </kd>
		<stopCfm> </stopCfm>
		<stopErp> </stopErp>
		<cfmDamping> </cfmDamping>
		<fudgeFactor> </fudgeFactor>
		-->
  </gazebo>
  <gazebo reference="right_hand_ring_outer_joint_mimic">
    <provideFeedback>True</provideFeedback>
    <!--
		<kp> </kp>
		<kd> 1.0 </kd>
		<stopCfm> </stopCfm>
		<stopErp> </stopErp>
		<cfmDamping> </cfmDamping>
		<fudgeFactor> </fudgeFactor>
		-->
  </gazebo>
  <gazebo reference="right_hand_little_inner_joint_mimic">
    <provideFeedback>True</provideFeedback>
    <!--
		<kp> </kp>
		<kd> 1.0 </kd>
		<stopCfm> </stopCfm>
		<stopErp> </stopErp>
		<cfmDamping> </cfmDamping>
		<fudgeFactor> </fudgeFactor>
		-->
  </gazebo>
  <gazebo reference="right_hand_little_middle_joint_mimic">
    <provideFeedback>True</provideFeedback>
    <!--
		<kp> </kp>
		<kd> 1.0 </kd>
		<stopCfm> </stopCfm>
		<stopErp> </stopErp>
		<cfmDamping> </cfmDamping>
		<fudgeFactor> </fudgeFactor>
		-->
  </gazebo>
  <gazebo reference="right_hand_little_outer_joint_mimic">
    <provideFeedback>True</provideFeedback>
    <!--
		<kp> </kp>
		<kd> 1.0 </kd>
		<stopCfm> </stopCfm>
		<stopErp> </stopErp>
		<cfmDamping> </cfmDamping>
		<fudgeFactor> </fudgeFactor>
		-->
  </gazebo>
</robot>
